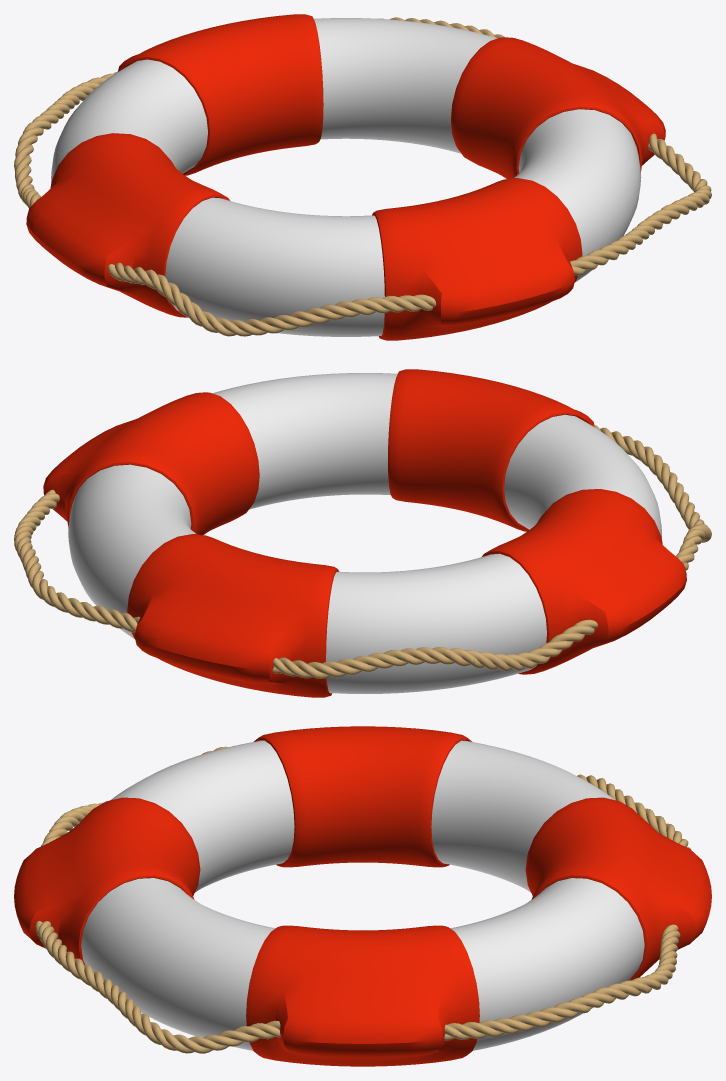
The model's file is Lifebouy.fbx.
3 renders of one model, top to bottom at view 1: azimuth 30°, elevation 25°; view 2: azimuth 150°, elevation 25°; view 3: azimuth 270°, elevation 25°, orthographic. The views are drawn at different scales.
Parts seen in each view (by area): view 1: Torus.001, Torus, Circle; view 2: Torus.001, Torus, Circle; view 3: Torus.001, Torus, Circle.
Boxes of the visible parts, x1,y1,x2,y2 form: Torus.001: (26, 14, 665, 340); Torus: (51, 18, 641, 336); Circle: (14, 17, 711, 336); Torus.001: (43, 369, 686, 697); Torus: (68, 373, 661, 693); Circle: (14, 424, 711, 678); Torus.001: (14, 726, 711, 1066); Torus: (81, 740, 644, 1050); Circle: (35, 745, 691, 1053).
Size of the model in its own units: 1511 by 296 by 1511.
